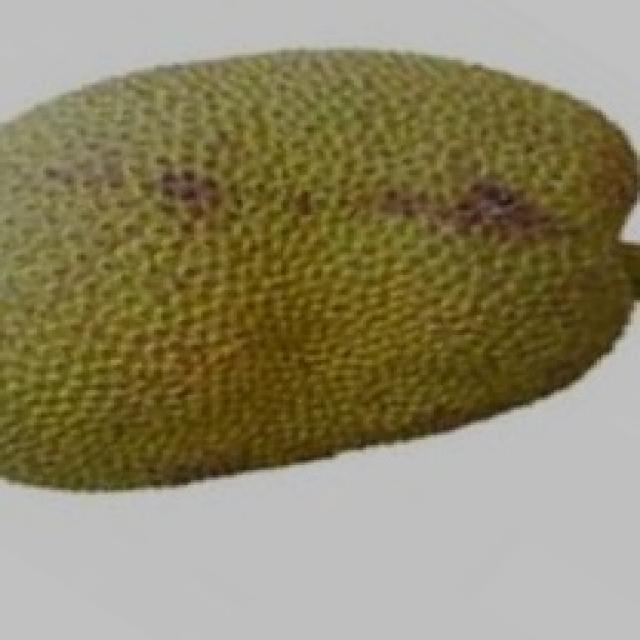Fruit: (271, 12, 640, 430), (0, 35, 406, 353)
